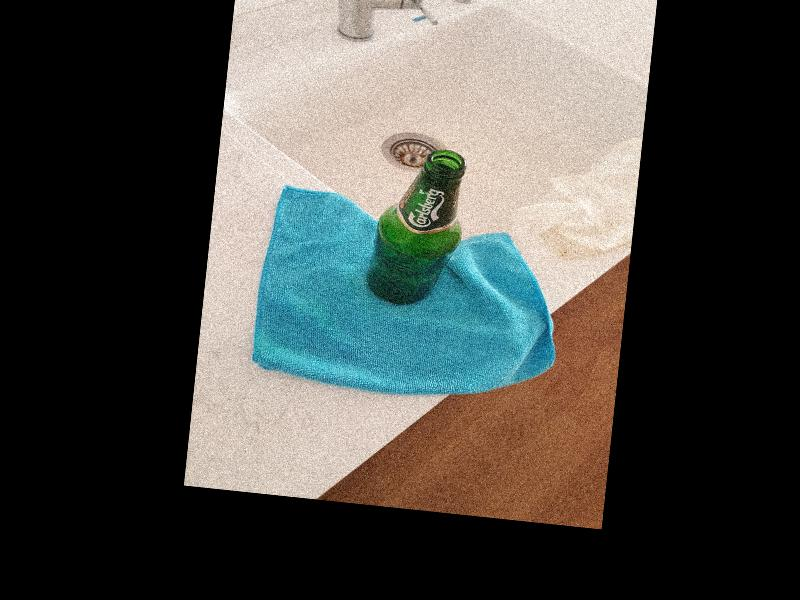Beer: (366, 145, 470, 312)
